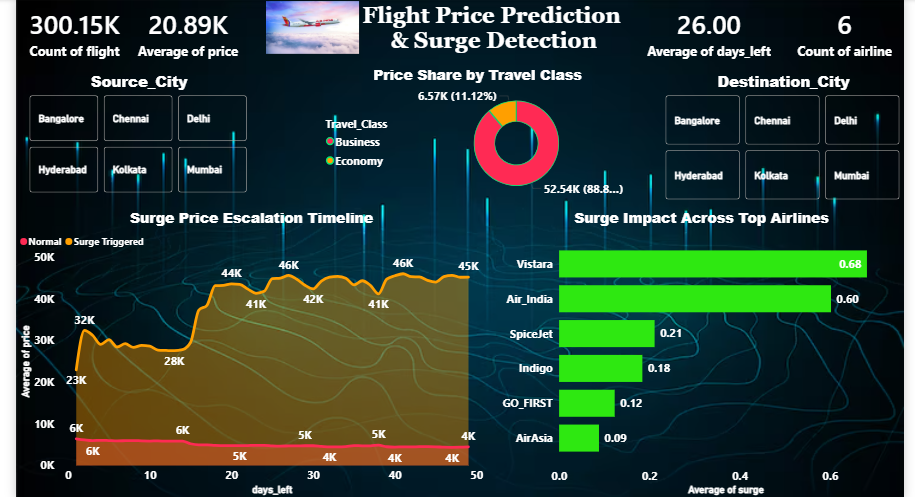

Layout of this report page (visuals, bound fields, positions):
{"tool":"powerbi","page":{"name":"Page 1","canvas":[1280,720],"ordinal":0},"visuals":[{"type":"textbox","box":[468,0,420.5,103.7],"z":0},{"type":"lineChart","title":"Surge Price Escalation Timeline","fields":{"Y":["Avg(Clean_Flight_Dataset.price)"],"Category":["Clean_Flight_Dataset.days_left"],"Series":["Clean_Flight_Dataset.Surge_Status"]},"box":[0,301,678.2,419],"z":1000},{"type":"barChart","title":"Surge Impact Across Top Airlines","fields":{"Y":["Avg(Clean_Flight_Dataset.surge)"],"Category":["Clean_Flight_Dataset.Airline_Name"]},"box":[694.1,301,586.1,419],"z":2000},{"type":"card","fields":{"Values":["CountNonNull(Clean_Flight_Dataset.flight)"]},"box":[0,0,168.5,82.1],"z":3000},{"type":"card","fields":{"Values":["Avg(Clean_Flight_Dataset.price)"]},"box":[155.5,0,184.3,82.1],"z":4000},{"type":"donutChart","title":"Price Share by Travel Class","fields":{"Category":["Clean_Flight_Dataset.Travel_Class"],"Y":["Avg(Clean_Flight_Dataset.price)"]},"box":[440.6,95,447.8,197.3],"z":5000},{"type":"advancedSlicerVisual","title":"Source_City","fields":{"Values":["Clean_Flight_Dataset.Source_City_Name"]},"box":[14.4,103.7,325.4,181.4],"z":6000},{"type":"advancedSlicerVisual","title":"Destination_City","fields":{"Values":["Clean_Flight_Dataset.Destination_City_Name"]},"box":[930.2,103.7,349.9,190.1],"z":7000},{"type":"card","fields":{"Values":["Count(Clean_Flight_Dataset.airline)"]},"box":[1105.9,0,174.2,82.1],"z":8000},{"type":"card","fields":{"Values":["Avg(Clean_Flight_Dataset.days_left)"]},"box":[888.5,0,218.9,82.1],"z":9000},{"type":"image","box":[334.1,0,133.9,82.1],"z":10000}]}

Visuals, with their boxes on the page's 1280x720 design canvas (x1, y1, x2, y2). These are canvas units, not pixel positions in the 915x497 screenshot, which may show the page scaled, cropped or inside an application window:
textbox: {"x1": 468, "y1": 0, "x2": 888, "y2": 104}
"Surge Price Escalation Timeline" lineChart: {"x1": 0, "y1": 301, "x2": 678, "y2": 720}
"Surge Impact Across Top Airlines" barChart: {"x1": 694, "y1": 301, "x2": 1280, "y2": 720}
card - CountNonNull(Clean_Flight_Dataset.flight): {"x1": 0, "y1": 0, "x2": 168, "y2": 82}
card - Avg(Clean_Flight_Dataset.price): {"x1": 156, "y1": 0, "x2": 340, "y2": 82}
"Price Share by Travel Class" donutChart: {"x1": 441, "y1": 95, "x2": 888, "y2": 292}
"Source_City" advancedSlicerVisual: {"x1": 14, "y1": 104, "x2": 340, "y2": 285}
"Destination_City" advancedSlicerVisual: {"x1": 930, "y1": 104, "x2": 1280, "y2": 294}
card - Count(Clean_Flight_Dataset.airline): {"x1": 1106, "y1": 0, "x2": 1280, "y2": 82}
card - Avg(Clean_Flight_Dataset.days_left): {"x1": 888, "y1": 0, "x2": 1107, "y2": 82}
image: {"x1": 334, "y1": 0, "x2": 468, "y2": 82}
